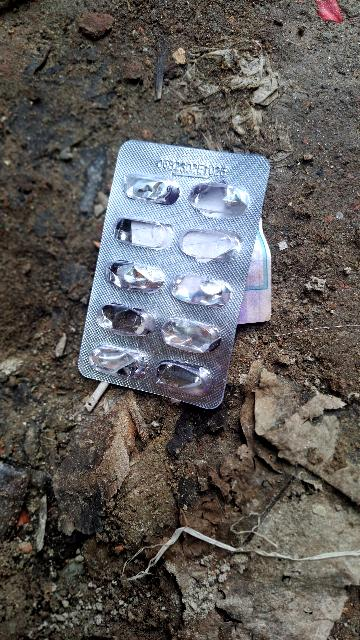medicine: (78, 140, 272, 410)
